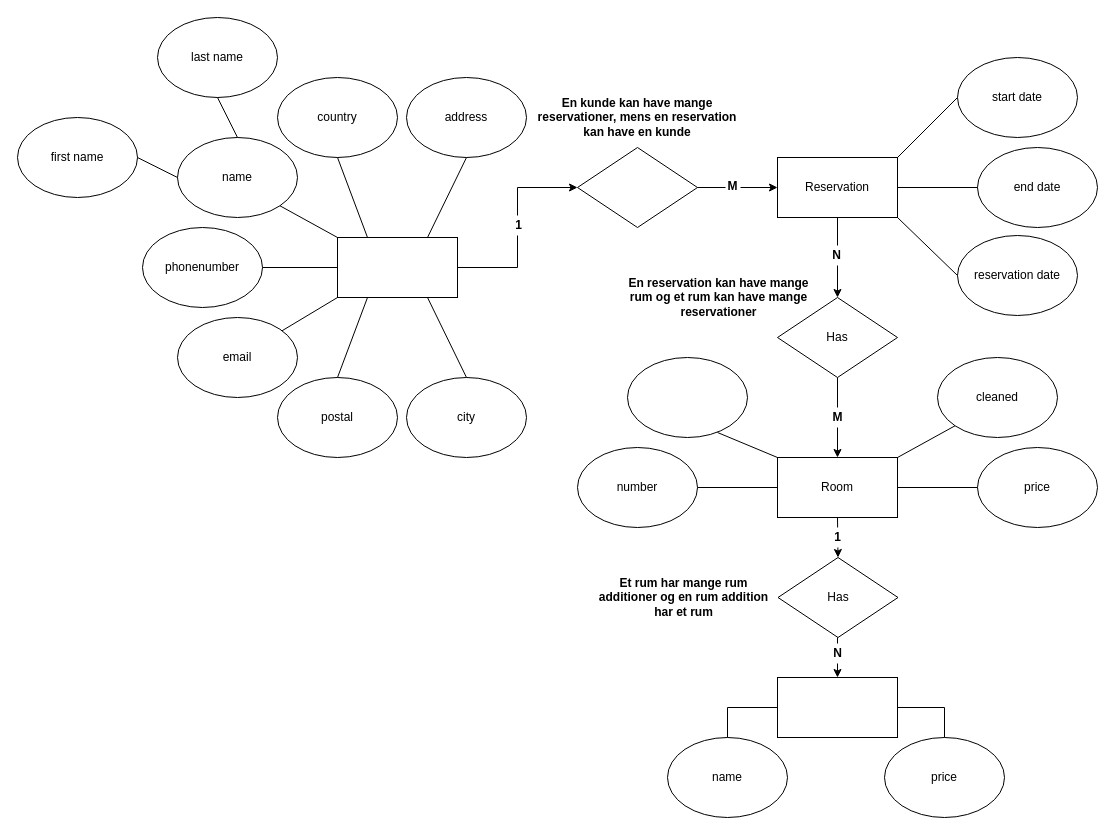
The diagram is 1115 pixels wide and 835 high, and some of its shapes have lost their labels. Here are the shapes that lost their labels. From the top down, the centre of each, then its label:
At (637,187): "Reserves".
At (397,267): "Customer".
At (687,397): "available".
At (837,707): "RoomAddition".
